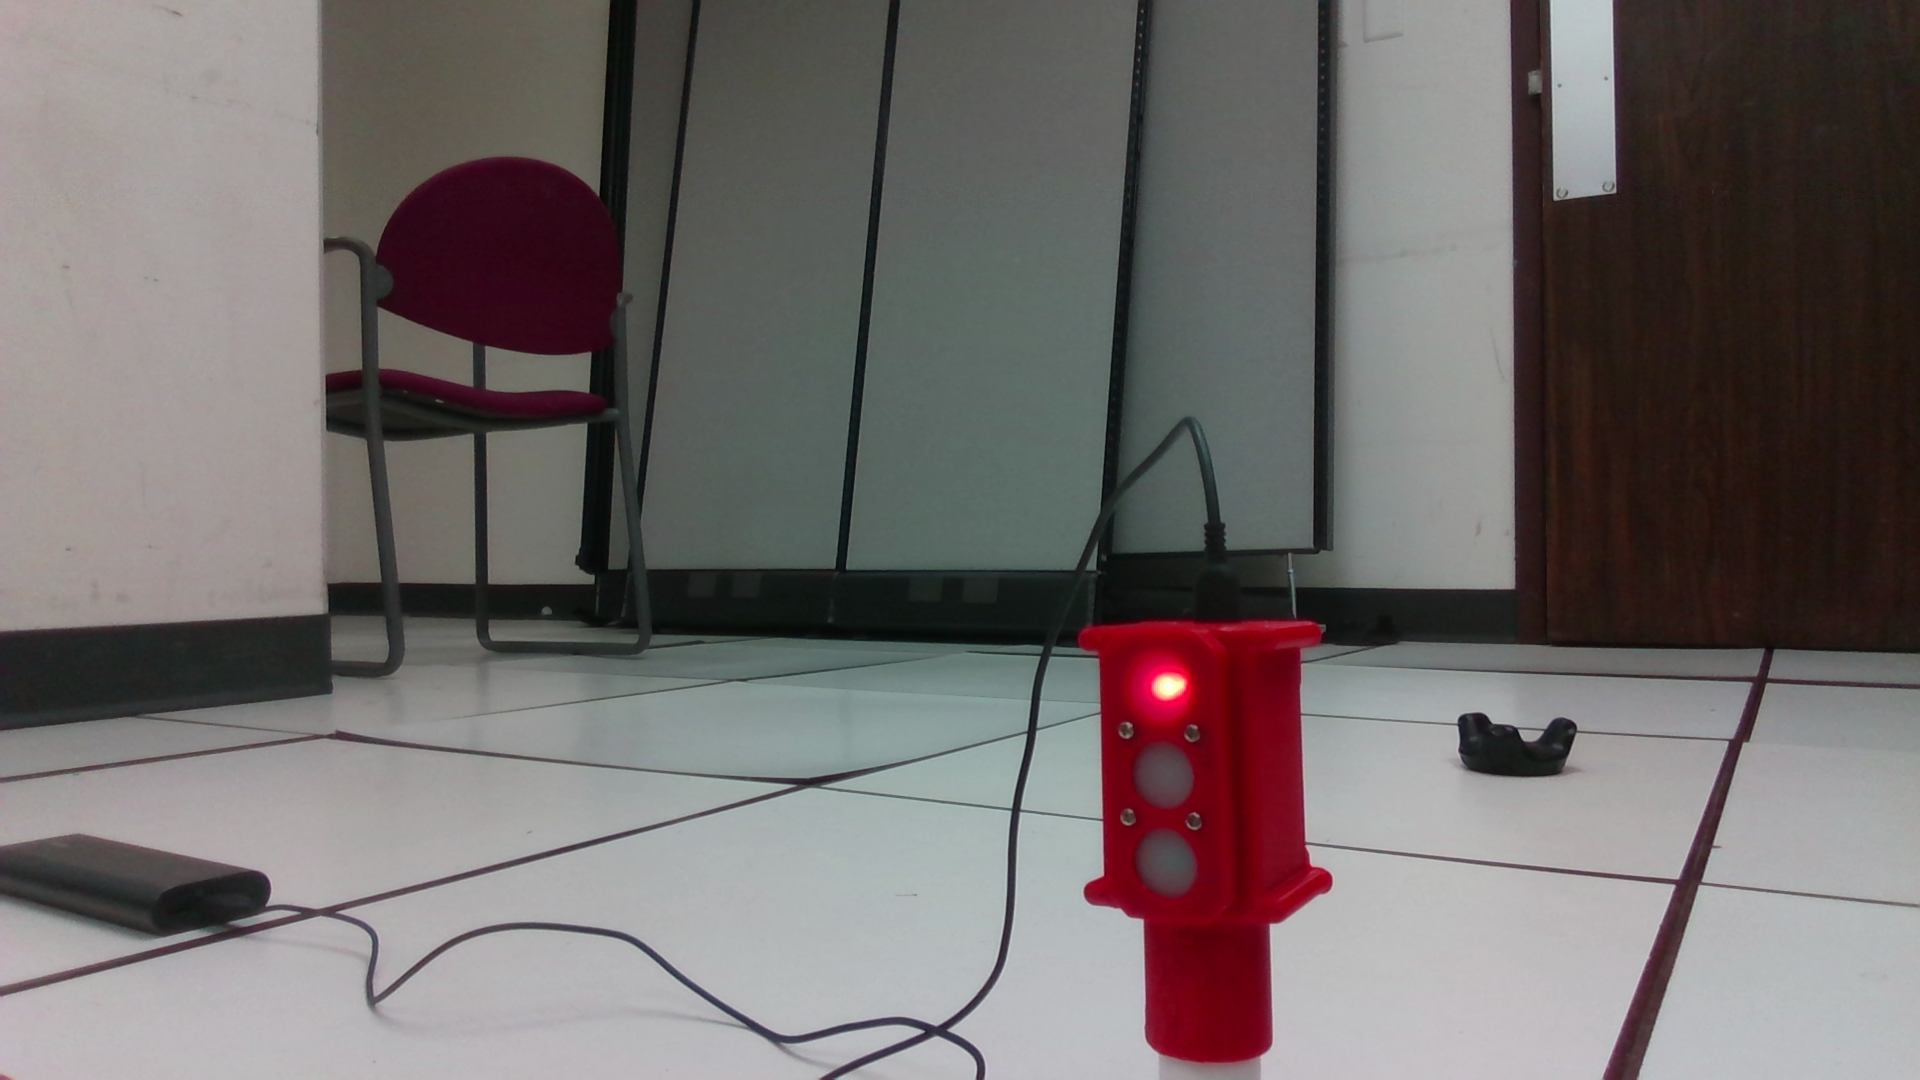stoplight: (1073, 617, 1335, 1062)
